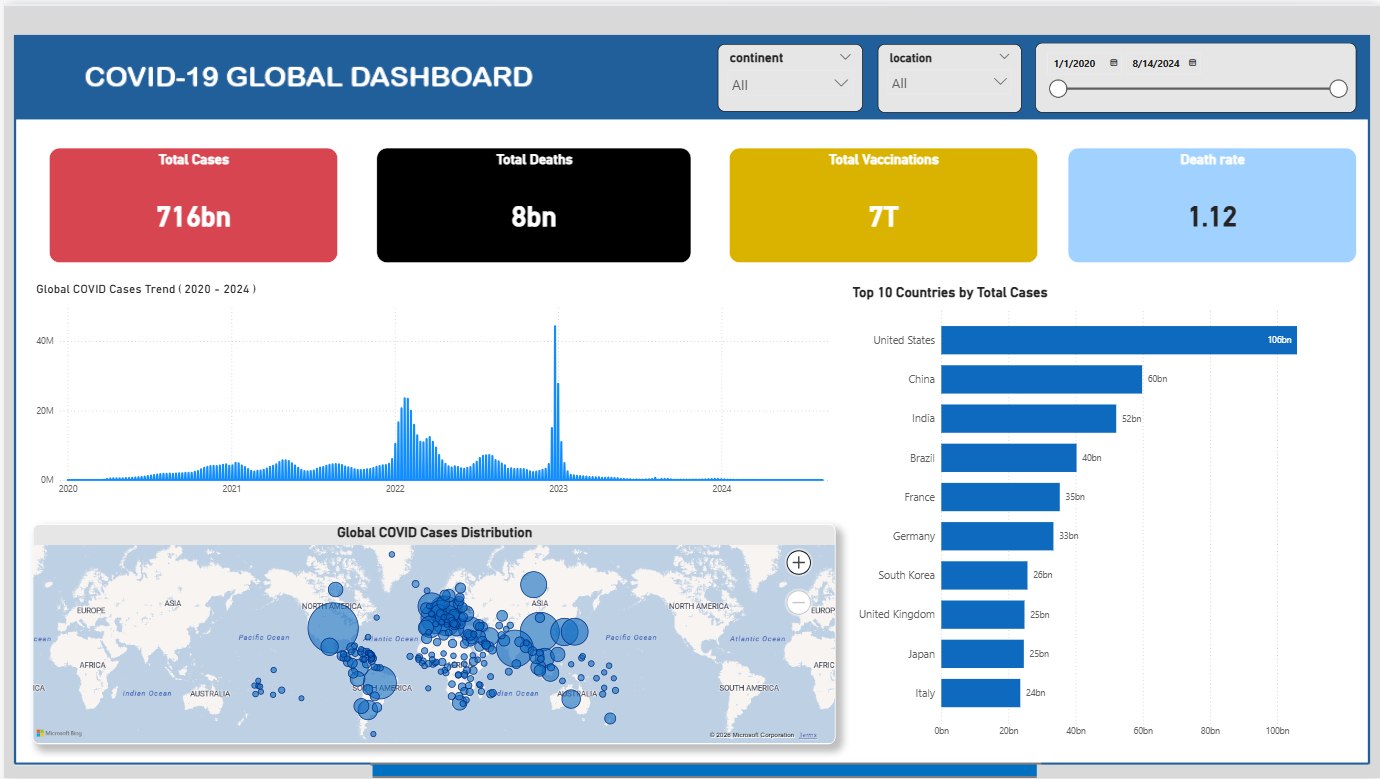

The page's visual inventory and layout, read from the dashboard file:
{"tool":"powerbi","page":{"name":"Page 1","canvas":[1920,1080],"ordinal":0},"visuals":[{"type":"map","title":"Global COVID Cases Distribution","fields":{"Size":["Sum(cleaned_covid_data.total_cases)"],"Category":["cleaned_covid_data.location"]},"box":[40.7,725.9,1120.4,307.4],"z":0},{"type":"clusteredBarChart","title":"Top 10 Countries by Total Cases","fields":{"Category":["cleaned_covid_data.location"],"Y":["cleaned_covid_data.Total Cases"]},"box":[1179.6,390.7,687,642.6],"z":1000},{"type":"lineChart","title":"Global COVID Cases Trend  ( 2020 - 2024 ) ","fields":{"Category":["cleaned_covid_data.date"],"Y":["Sum(cleaned_covid_data.new_cases)"]},"box":[40.7,387,1120.4,307.4],"z":2000},{"type":"card","title":"Total Cases","fields":{"Values":["cleaned_covid_data.Total Cases"]},"box":[62.8,200.6,402.9,160.5],"z":3000},{"type":"card","title":"Total Deaths","fields":{"Values":["cleaned_covid_data.Total deaths"]},"box":[519.8,200.6,439.5,160.5],"z":4000},{"type":"card","title":"Total  Vaccinations","fields":{"Values":["Sum(cleaned_covid_data.total_vaccinations)"]},"box":[1011.6,200.6,430.8,160.5],"z":5000},{"type":"card","title":"Death rate ","fields":{"Values":["cleaned_covid_data.Death rate"]},"box":[1484.3,200.6,402.9,160.5],"z":6000},{"type":"slicer","fields":{"Values":["cleaned_covid_data.continent"]},"box":[995.9,55.8,202.3,94.2],"z":7000},{"type":"slicer","fields":{"Values":["cleaned_covid_data.location"]},"box":[1219.2,55.8,200.6,95.9],"z":8000},{"type":"slicer","fields":{"Values":["cleaned_covid_data.date"]},"box":[1439,54.1,448.3,97.7],"z":9000}]}

Visuals, with their boxes in screenshot pixels (x1, y1, x2, y2), scaled from the page's 1920x1080 canvas onto the 1380x779 screenshot:
"Global COVID Cases Distribution" map: box(29, 524, 835, 745)
"Top 10 Countries by Total Cases" clusteredBarChart: box(848, 282, 1342, 745)
"Global COVID Cases Trend  ( 2020 - 2024 ) " lineChart: box(29, 279, 835, 501)
"Total Cases" card: box(45, 145, 335, 260)
"Total Deaths" card: box(374, 145, 689, 260)
"Total  Vaccinations" card: box(727, 145, 1037, 260)
"Death rate " card: box(1067, 145, 1356, 260)
slicer - cleaned_covid_data.continent: box(716, 40, 861, 108)
slicer - cleaned_covid_data.location: box(876, 40, 1020, 109)
slicer - cleaned_covid_data.date: box(1034, 39, 1356, 109)
